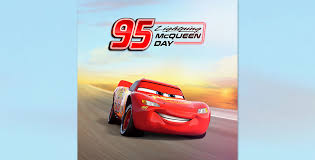mcqueen: (106, 77, 211, 140)
